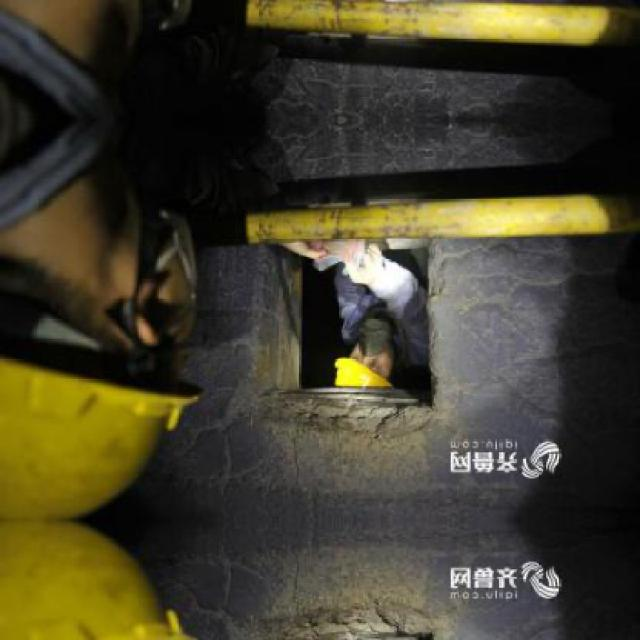con casco: (0, 136, 203, 503), (299, 266, 441, 435)
